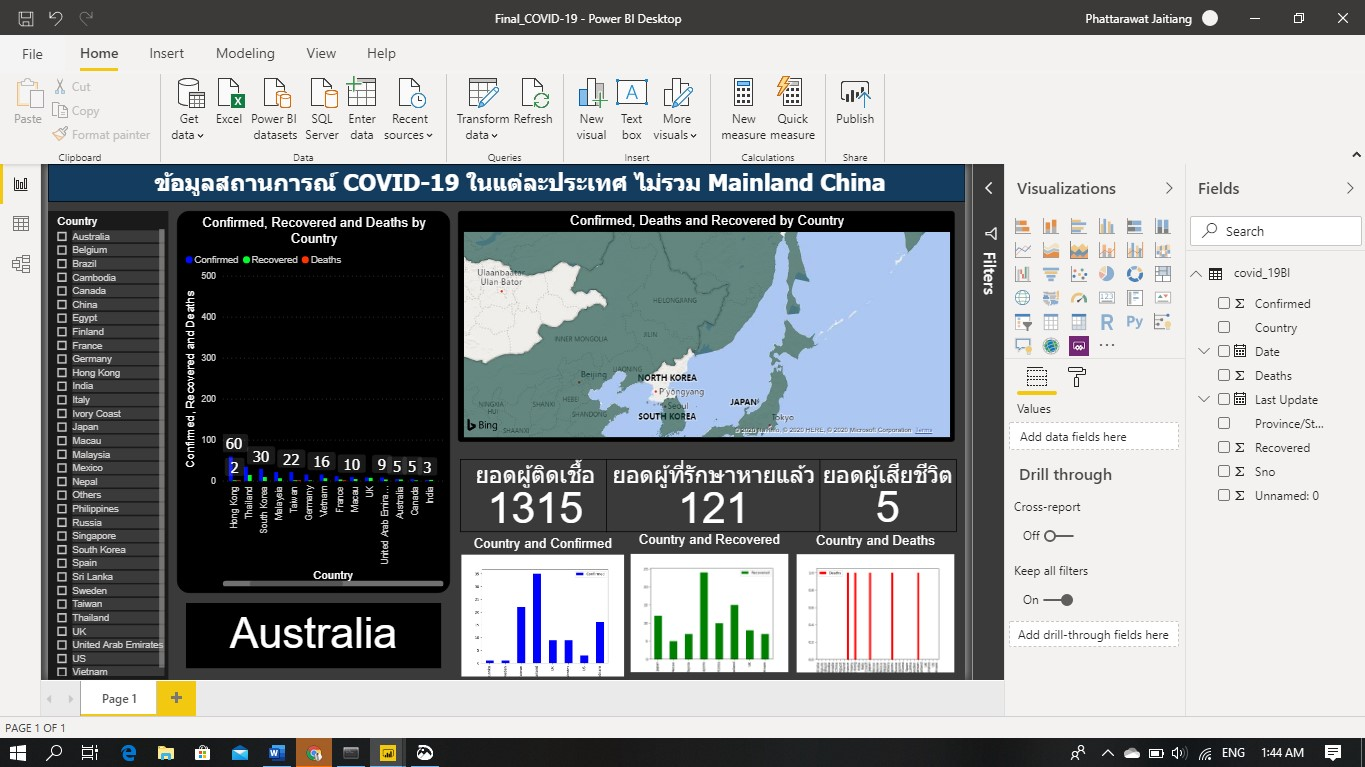

Layout of this report page (visuals, bound fields, positions):
{"tool":"powerbi","page":{"name":"Page 1","canvas":[1280,720],"ordinal":0},"visuals":[{"type":"pythonVisual","fields":{"Values":["covid_19BI.Country","covid_19BI.Confirmed"]},"box":[572.1,518.4,236.5,201.3],"z":0},{"type":"textbox","box":[0,0,1279.5,53],"z":1000},{"type":"pythonVisual","fields":{"Values":["covid_19BI.Country","covid_19BI.Recovered"]},"box":[808.6,513.3,229.8,204.7],"z":2000},{"type":"card","title":"ยอดผู้ติดเชื้อ","fields":{"Values":["Sum(covid_19BI.Confirmed)"]},"box":[574.9,411.6,207.9,101.9],"z":3000},{"type":"card","title":"ยอดผู้เสียชีวิต","fields":{"Values":["Sum(covid_19BI.Deaths)"]},"box":[1073,411.6,195.3,101.9],"z":4000},{"type":"card","title":"ยอดผู้ที่รักษาหายแล้ว","fields":{"Values":["Sum(covid_19BI.Recovered)"]},"box":[778.6,411.6,298.6,101.9],"z":5000},{"type":"filledMap","fields":{"Category":["covid_19BI.Country"]},"box":[572.1,65.6,693.5,322.3],"z":6000},{"type":"slicer","fields":{"Values":["covid_19BI.Country"]},"box":[0,65.4,167.8,654.3],"z":7000},{"type":"card","fields":{"Values":["Min(covid_19BI.Country)"]},"box":[192.9,612.3,355.6,90.6],"z":8000},{"type":"clusteredColumnChart","fields":{"Category":["covid_19BI.Country"],"Y":["Sum(covid_19BI.Confirmed)","Sum(covid_19BI.Recovered)","Sum(covid_19BI.Deaths)"]},"box":[180,65.6,380.9,533],"z":9000},{"type":"pythonVisual","fields":{"Values":["covid_19BI.Country","covid_19BI.Deaths"]},"box":[1040.1,515,229.8,203],"z":10000}]}

Visuals, with their boxes on the page's 1280x720 design canvas (x1, y1, x2, y2). These are canvas units, not pixel positions in the 1365x767 screenshot, which may show the page scaled, cropped or inside an application window:
pythonVisual - covid_19BI.Country x covid_19BI.Confirmed: locate(572, 518, 809, 720)
textbox: locate(0, 0, 1280, 53)
pythonVisual - covid_19BI.Country x covid_19BI.Recovered: locate(809, 513, 1038, 718)
"ยอดผู้ติดเชื้อ" card: locate(575, 412, 783, 514)
"ยอดผู้เสียชีวิต" card: locate(1073, 412, 1268, 514)
"ยอดผู้ที่รักษาหายแล้ว" card: locate(779, 412, 1077, 514)
filledMap - covid_19BI.Country: locate(572, 66, 1266, 388)
slicer - covid_19BI.Country: locate(0, 65, 168, 720)
card - Min(covid_19BI.Country): locate(193, 612, 548, 703)
clusteredColumnChart - covid_19BI.Country x Sum(covid_19BI.Confirmed): locate(180, 66, 561, 599)
pythonVisual - covid_19BI.Country x covid_19BI.Deaths: locate(1040, 515, 1270, 718)
